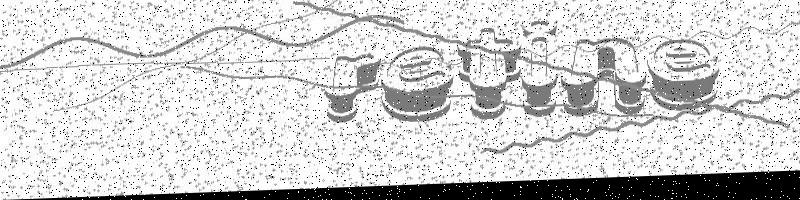e: (382, 50, 452, 125), (648, 44, 719, 115)
i: (522, 24, 558, 121)
n: (561, 42, 646, 121)
r: (325, 58, 379, 126)
t: (459, 31, 521, 125)
